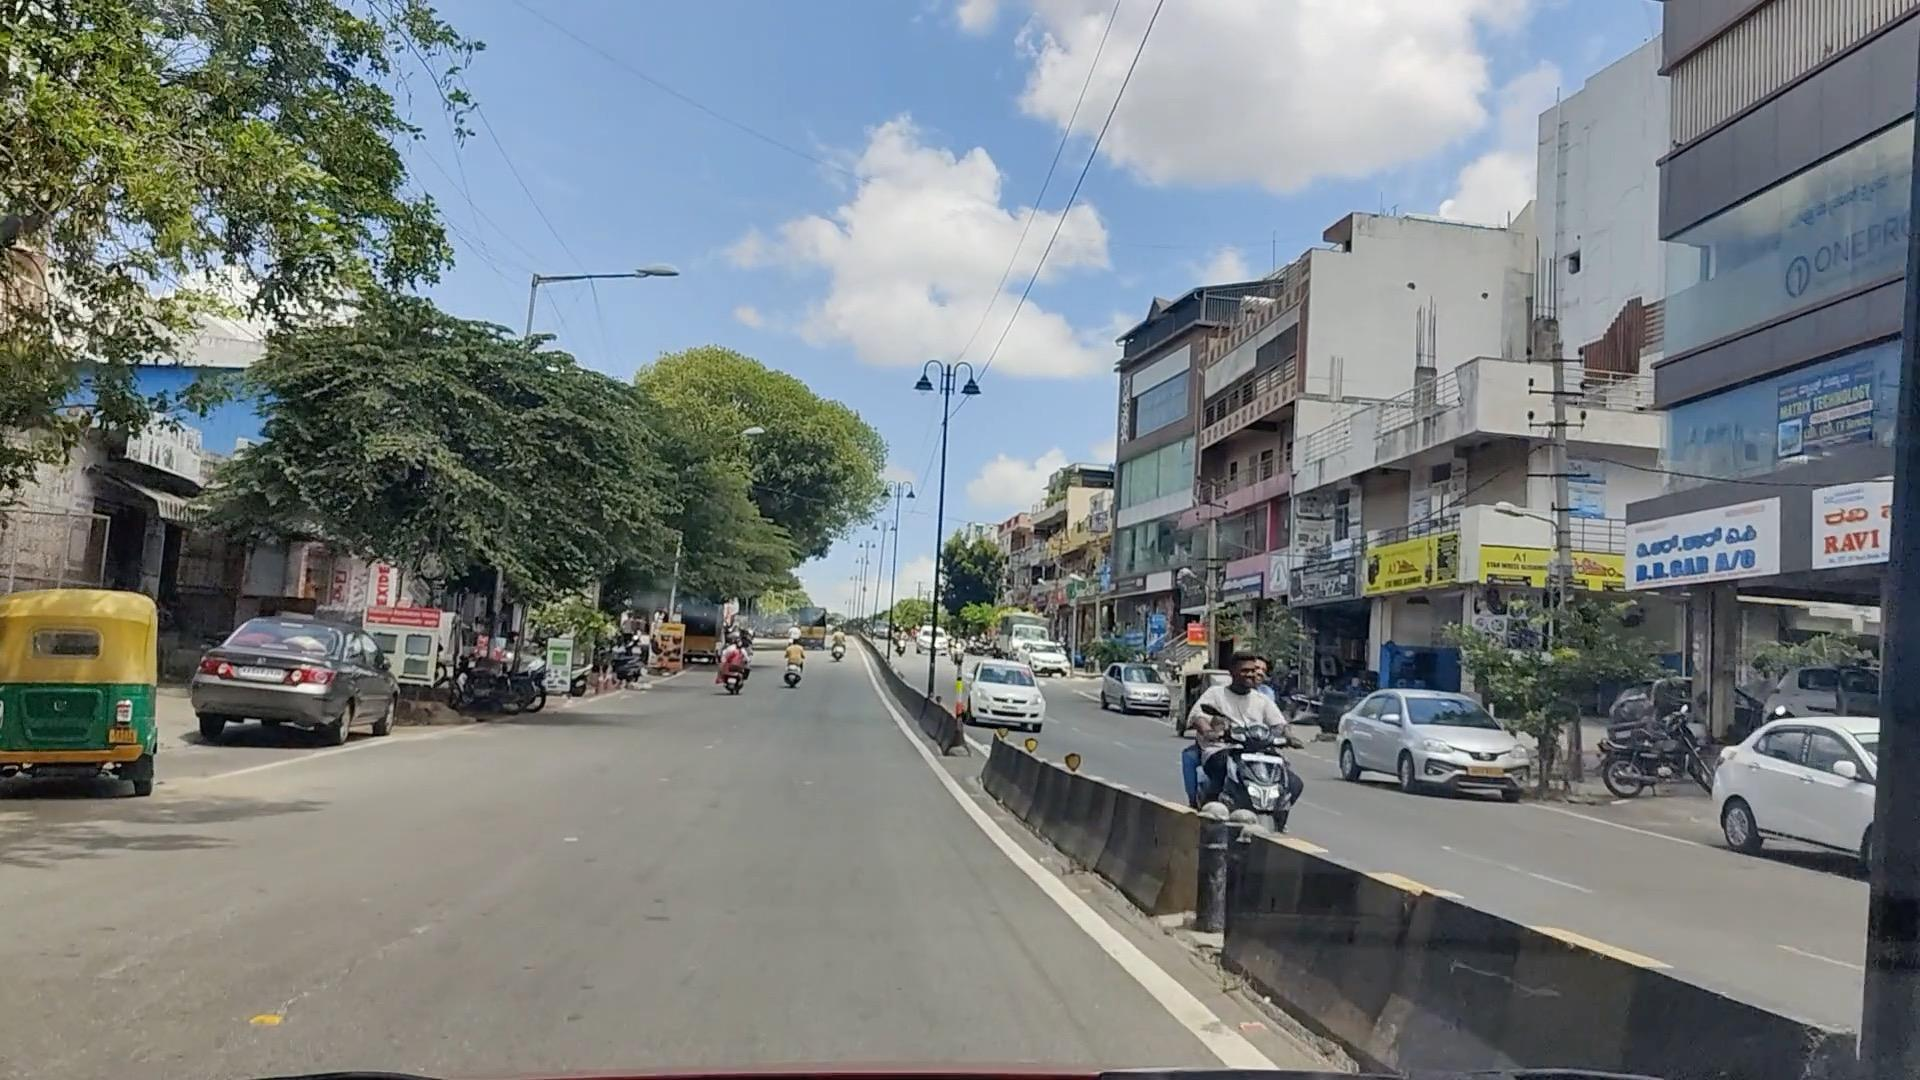LMV: (220, 611, 380, 731), (967, 667, 1030, 716), (720, 620, 752, 684), (781, 633, 810, 696)
